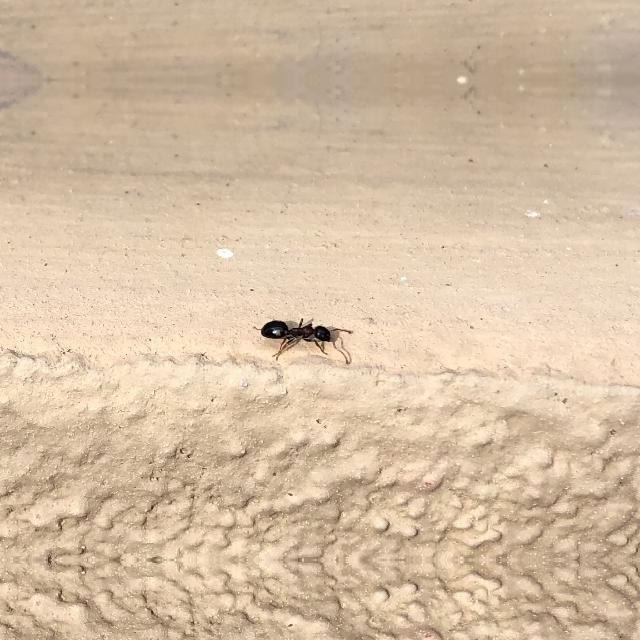Dolichoderus: (242, 302, 362, 366)
